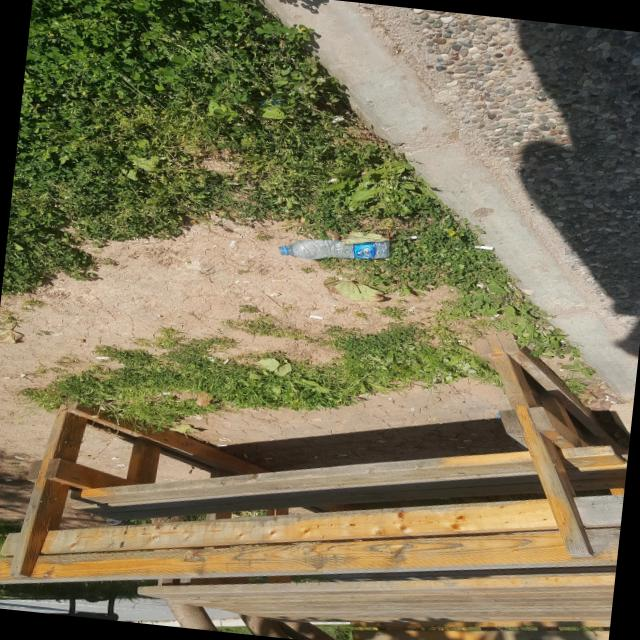less trash: (278, 238, 390, 259)
